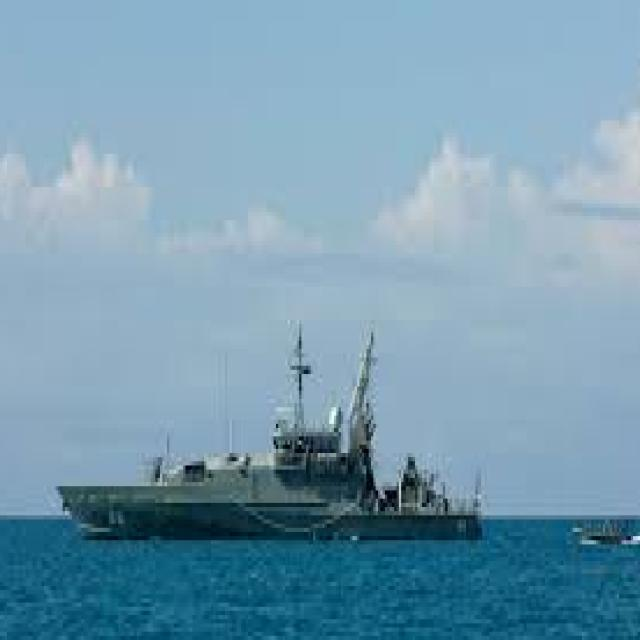navalvessels: (58, 297, 501, 547)
